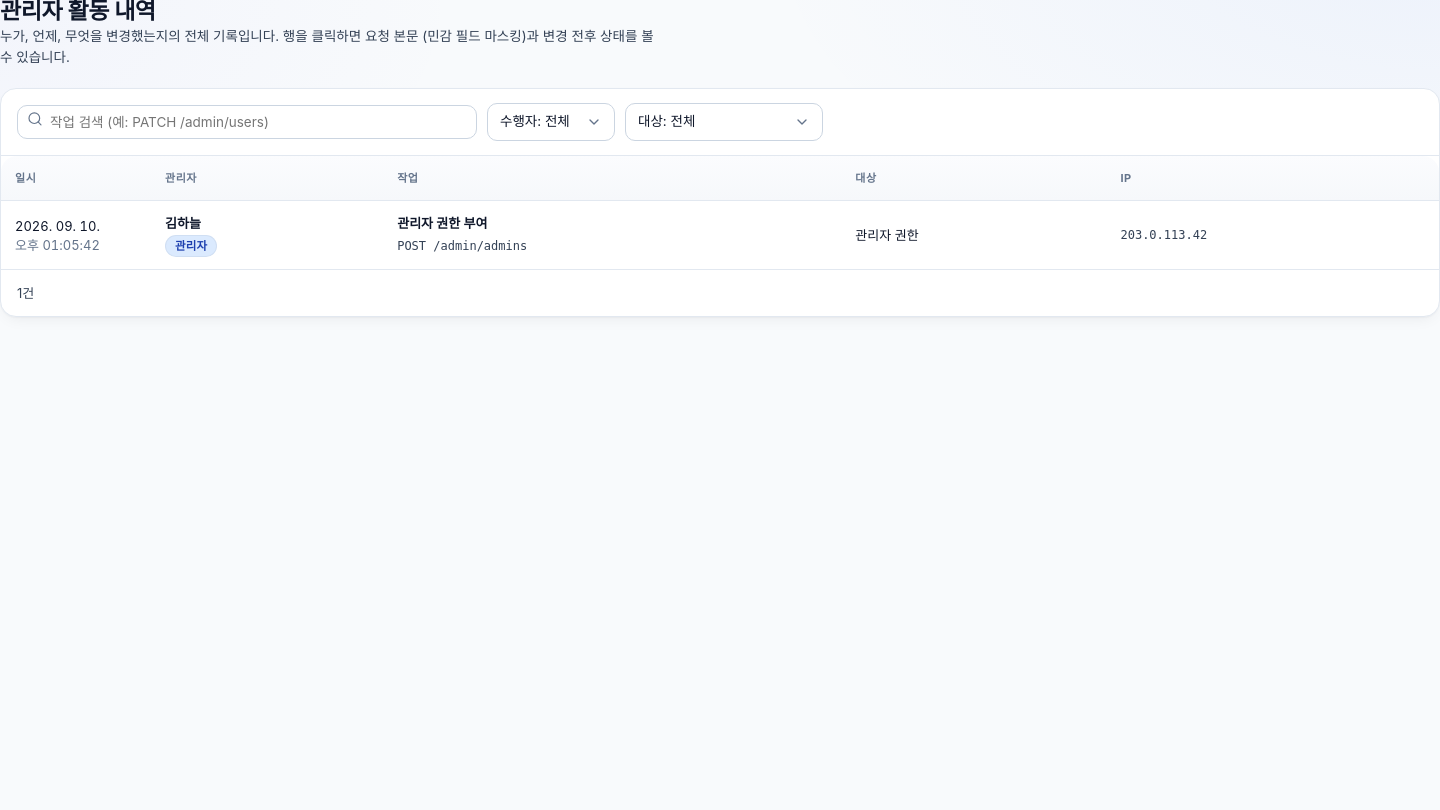
Scenario: the 시각 column › uses the same two lines in the detail drawer
This screenshot has width=1440, height=810.
Click the text "관리자 권한 부여" at (442, 223), box [397,215,488,231]
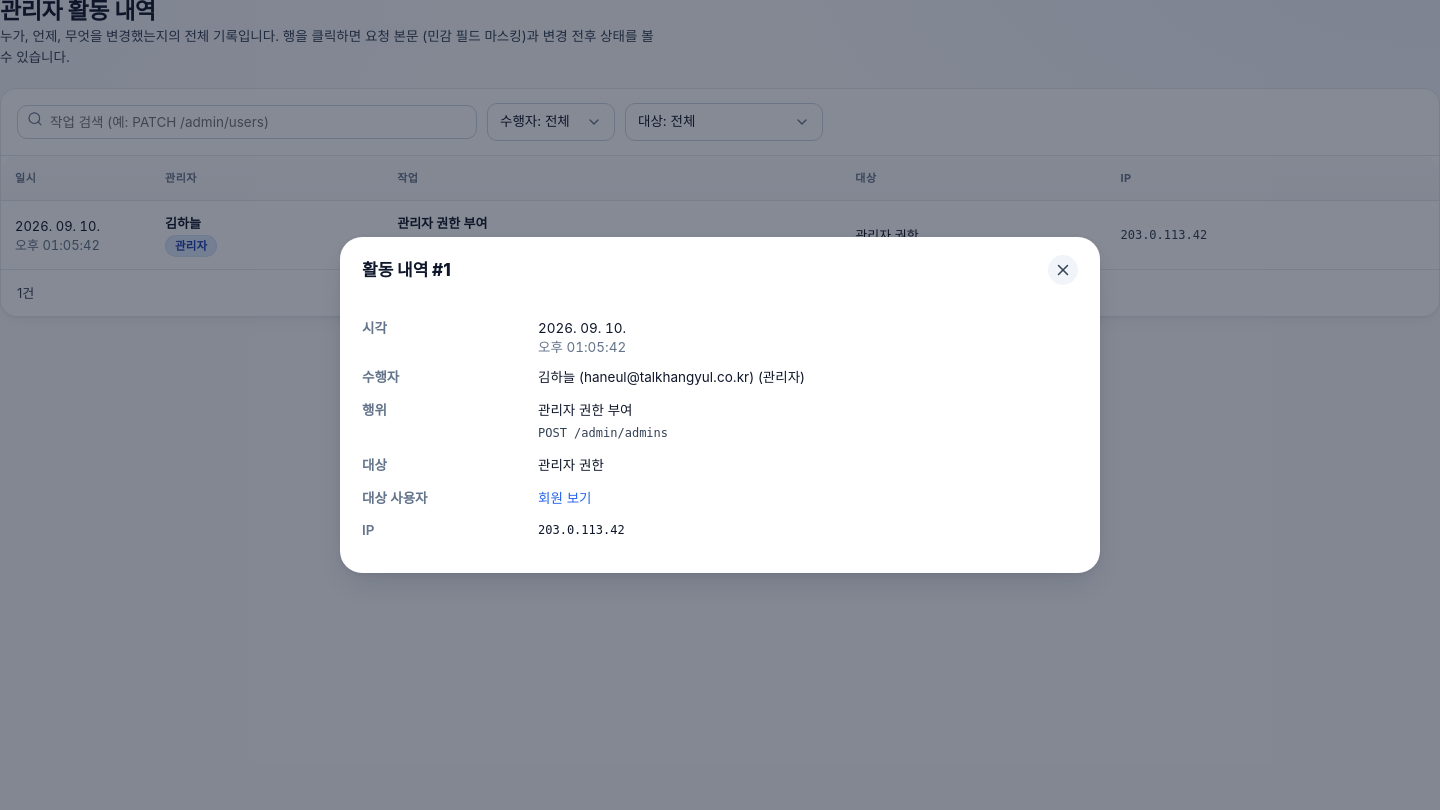
Expected: the text with class "hgadm-timestamp__date" below "일시" reads "2026. 09. 10.", [15,218,100,234]
Result: the text with class "hgadm-timestamp__date" reads "2026. 09. 10." at [538,320,626,336]
Result: the text with class "hgadm-timestamp__time" reads "오후 01:05:42" at [538,339,626,355]
